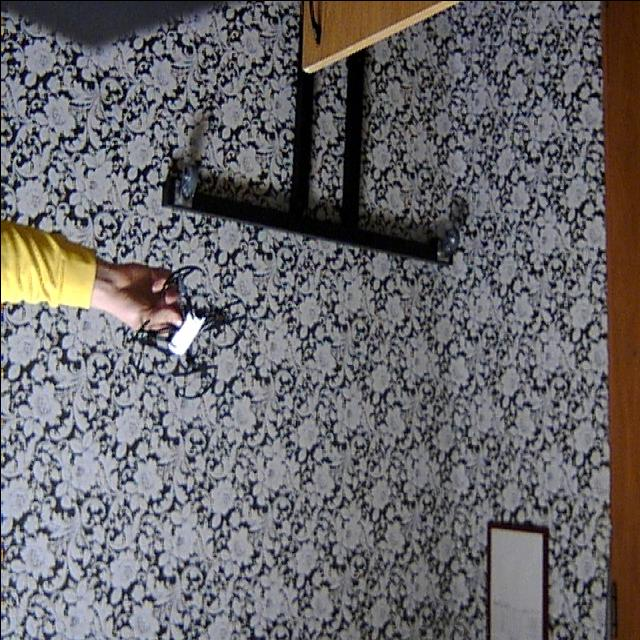drone: (130, 255, 251, 398)
